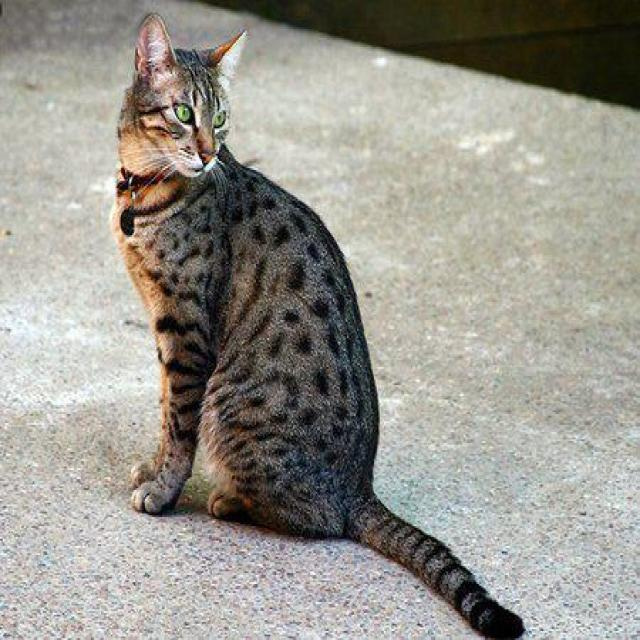cat: (113, 11, 528, 640)
